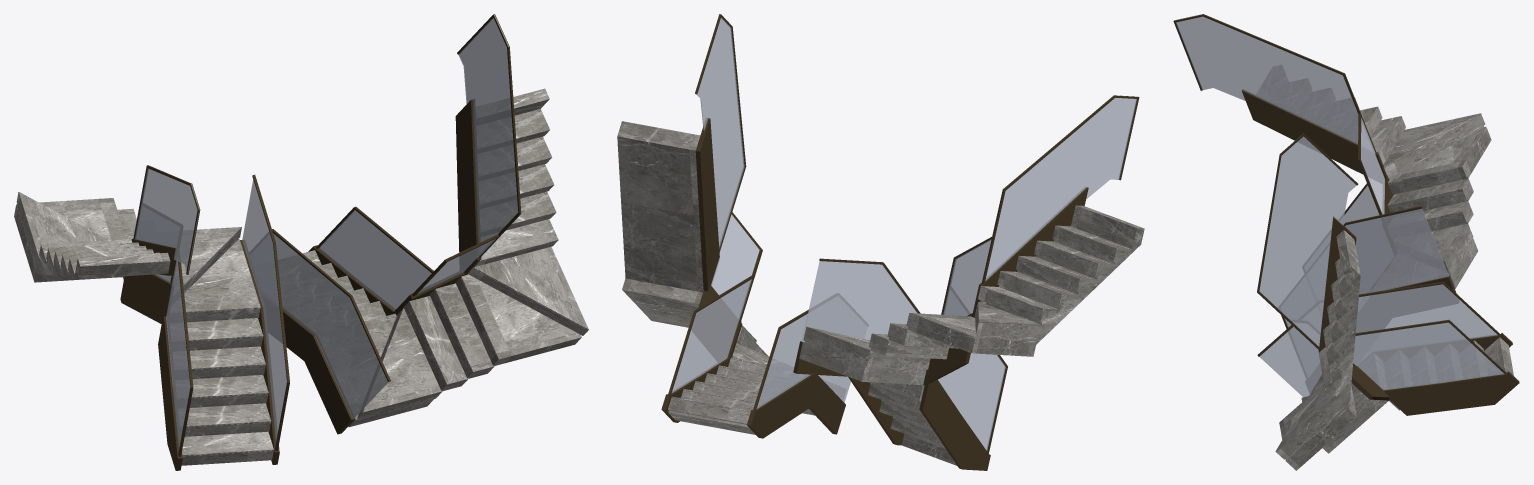
3 views of the same model, side by side, from view 1: azimuth 30°, elevation 25°; view 2: azimuth 150°, elevation 25°; view 3: azimuth 270°, elevation 25° (orthographic). The views are drawn at different scales.
Parts seen in each view (by area): view 1: Line2029257736, Line1789536092, Line1789536100, Rectangle1410072448, Line2029257788, Line2029257800, Line2029257784, Rectangle1410072441, Line1789536095, Line1789536088, Rectangle1410072465, Line2029257746 (+45 smaller); view 2: Mesh32, Line2029257800, Mesh72, Line2029257788, Line2029257736, Line1789536100, Line2029257789, Line1789536088, Line2029257792, Line2029257746, Line1789536092, Rectangle1410072447 (+30 smaller); view 3: Line2029257736, Line2029257800, Line1789536092, Line1789536100, Line2029257788, Line2029257799, Line1789536089, Line2029257786, Mesh32, Mesh72, Rectangle1410072476, Rectangle1410072475 (+42 smaller).
Boxes of the visible parts, left/top/right/bottom form: Line2029257736: left=458, top=14, right=518, bottom=243; Line1789536092: left=273, top=233, right=388, bottom=419; Line1789536100: left=318, top=210, right=431, bottom=310; Rectangle1410072448: left=461, top=274, right=581, bottom=359; Line2029257788: left=242, top=180, right=286, bottom=441; Line2029257800: left=135, top=168, right=199, bottom=274; Line2029257784: left=473, top=247, right=588, bottom=330; Rectangle1410072441: left=318, top=313, right=433, bottom=420; Line1789536095: left=362, top=308, right=442, bottom=412; Line1789536088: left=262, top=293, right=355, bottom=434; Rectangle1410072465: left=170, top=239, right=260, bottom=312; Line2029257746: left=455, top=99, right=481, bottom=273; Mesh32: left=617, top=121, right=703, bottom=292; Line2029257800: left=985, top=95, right=1137, bottom=280; Mesh72: left=978, top=205, right=1144, bottom=344; Line2029257788: left=801, top=261, right=917, bottom=342; Line2029257736: left=696, top=17, right=744, bottom=248; Line1789536100: left=671, top=279, right=751, bottom=393; Line2029257789: left=938, top=353, right=1005, bottom=450; Line1789536088: left=747, top=374, right=845, bottom=438; Line2029257792: left=919, top=380, right=990, bottom=470; Line2029257746: left=695, top=118, right=719, bottom=291; Line1789536092: left=756, top=313, right=850, bottom=408; Rectangle1410072447: left=622, top=278, right=702, bottom=327; Line2029257736: left=1259, top=133, right=1356, bottom=346; Line2029257800: left=1174, top=14, right=1358, bottom=144; Line1789536092: left=1259, top=284, right=1497, bottom=397; Line1789536100: left=1353, top=322, right=1503, bottom=390; Line2029257788: left=1284, top=208, right=1448, bottom=327; Line2029257799: left=1242, top=90, right=1386, bottom=182; Line1789536089: left=1383, top=371, right=1519, bottom=415; Line2029257786: left=1305, top=275, right=1458, bottom=392; Mesh32: left=1326, top=230, right=1360, bottom=409; Mesh72: left=1256, top=65, right=1405, bottom=179; Rectangle1410072476: left=1388, top=126, right=1486, bottom=183; Rectangle1410072475: left=1388, top=128, right=1491, bottom=194.
Bounding box in the file's own units: 222 × 167 × 149.
Materials: 3 (1 with a texture image).
